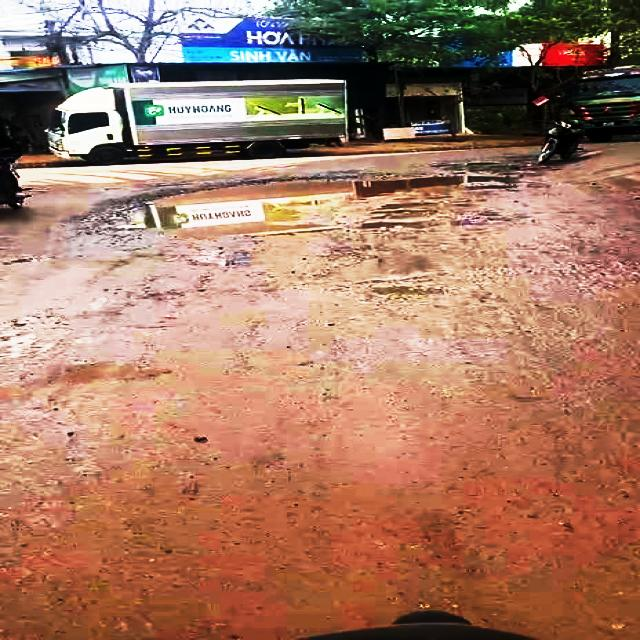pothole: (110, 170, 526, 234)
